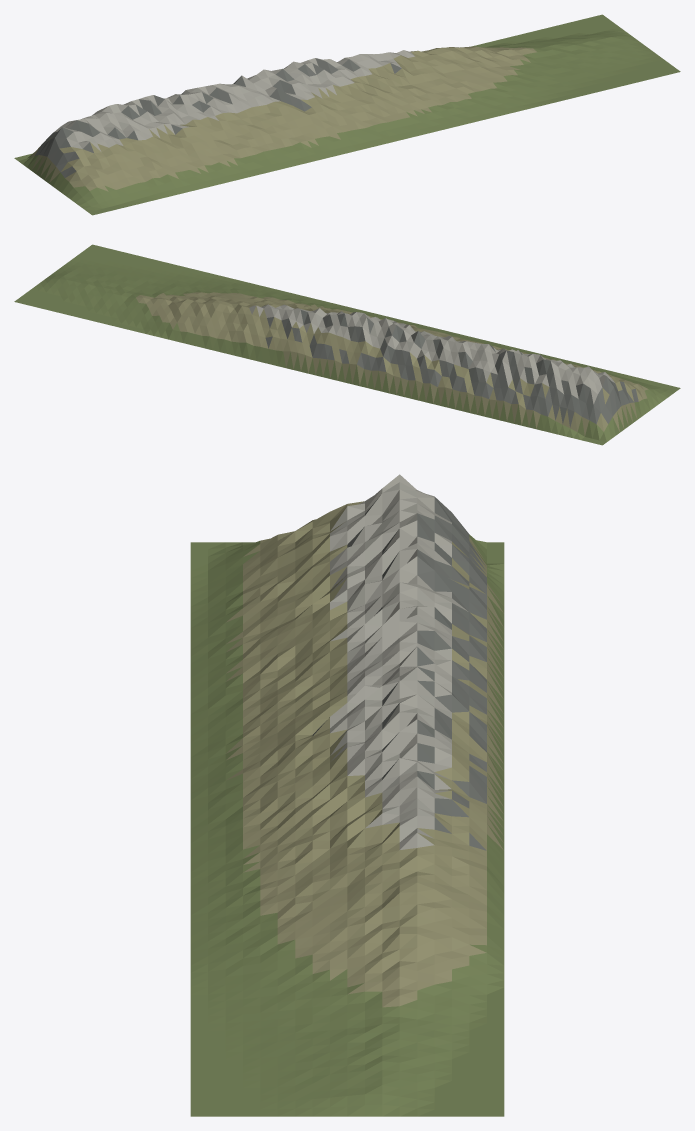
The model's file is backdrop-rock.glb.
3 renders of one model, top to bottom at view 1: azimuth 30°, elevation 25°; view 2: azimuth 150°, elevation 25°; view 3: azimuth 270°, elevation 25°, orthographic. The views are drawn at different scales.
Parts seen in each view (by area): view 1: rock; view 2: rock; view 3: rock.
Boxes of the visible parts, <box> form: rock: <box>14,14,680,215</box>; rock: <box>14,244,680,445</box>; rock: <box>190,474,504,1116</box>.
Bounding box in the file's own units: 5200 × 426 × 1200.
Materials: 1 (1 with a texture image).
